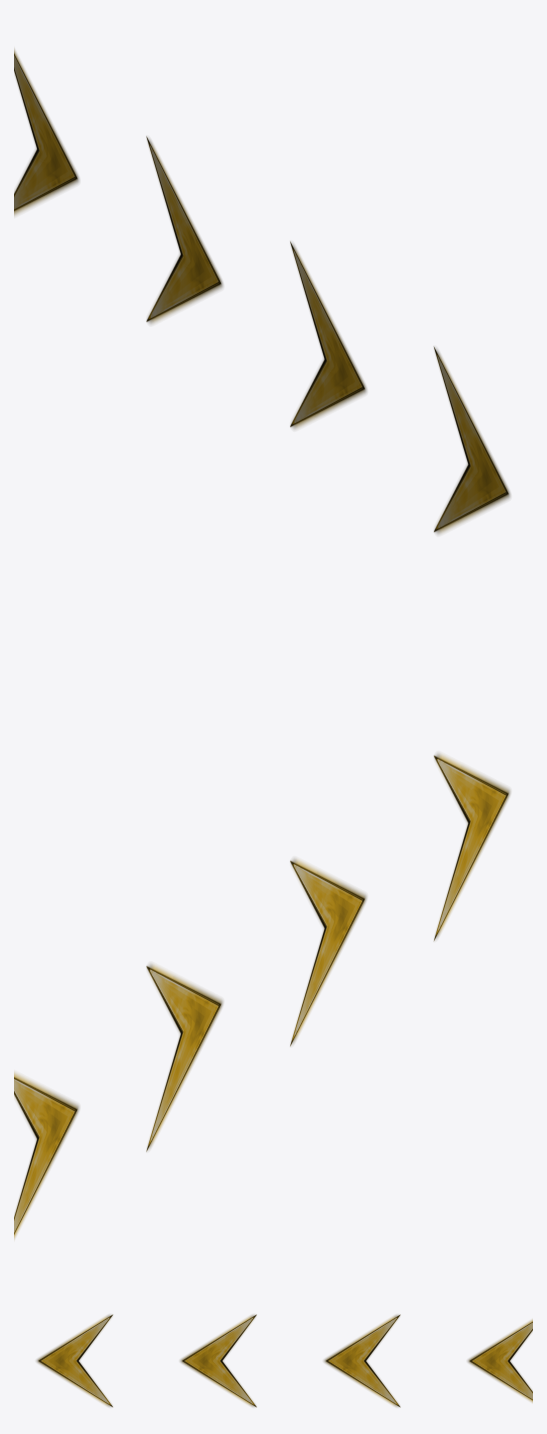
File: arrow.glb
The picture shows the model from 3 angles, top to bottom: view 1: azimuth 30°, elevation 25°; view 2: azimuth 150°, elevation 25°; view 3: azimuth 270°, elevation 25°; orthographic projection. The views are drawn at different scales.
Parts seen in each view (by area): view 1: zipper.png__; view 2: zipper.png__; view 3: zipper.png__.
Part boxes in pixels (<box>): zipper.png__: <box>14,49,510,534</box>; zipper.png__: <box>14,753,510,1239</box>; zipper.png__: <box>36,1314,532,1407</box>.
Bounding box in the file's own units: 1.79e-07 × 4 × 16.
1 material, 1 textured.
